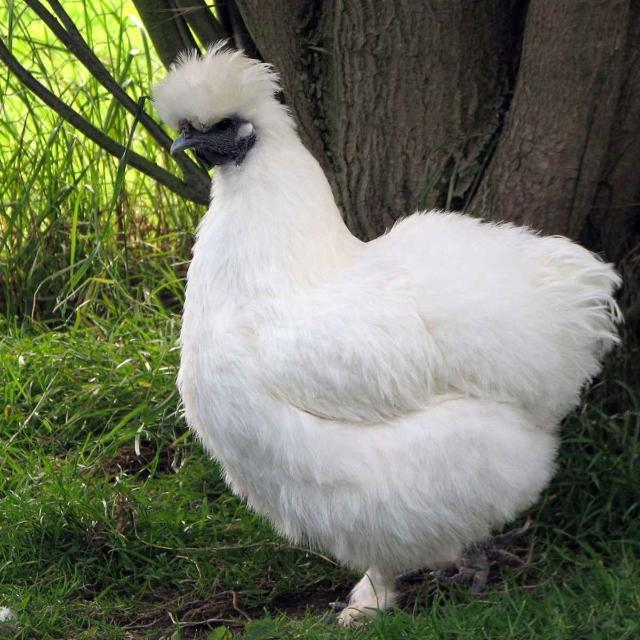Chicken: (148, 39, 625, 624)
